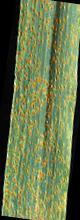Wheat: (14, 101, 70, 164), (6, 168, 65, 215), (23, 3, 77, 51), (19, 56, 73, 100)
